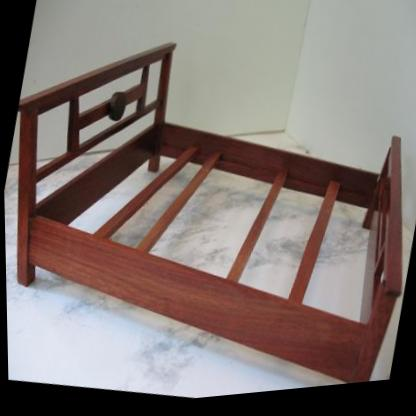Bed: (1, 0, 416, 416)
